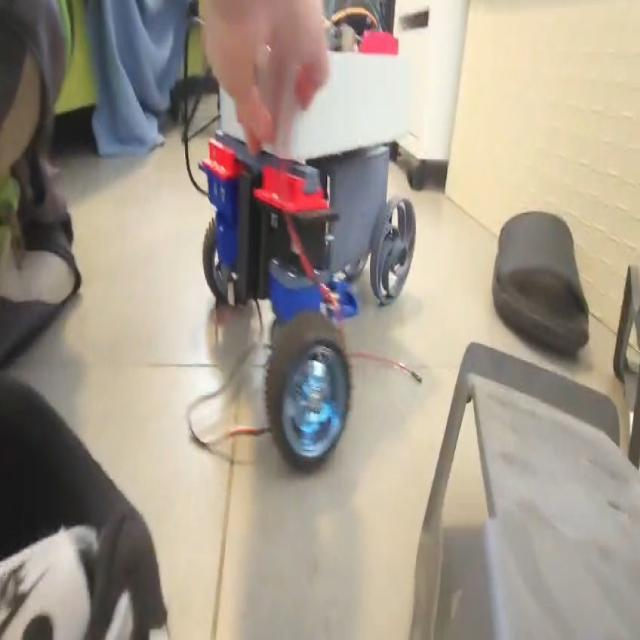Robot: (196, 0, 418, 476)
